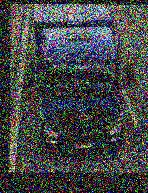truck: (27, 4, 131, 156)
